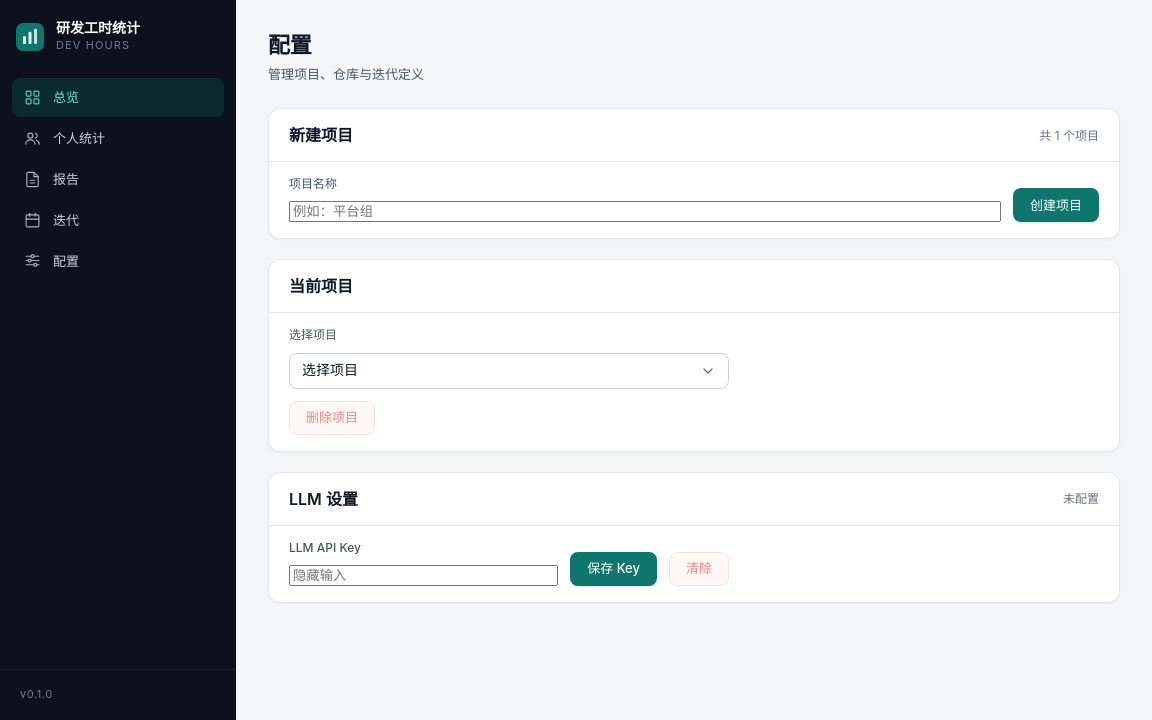
ConfigPage LLM settings › saves the LLM API key via PUT /api/settings/llm
The image size is (1152, 720).
In the password field named "llm-api-key": (424, 575) [289,565,558,586], type "sk-test-123456"
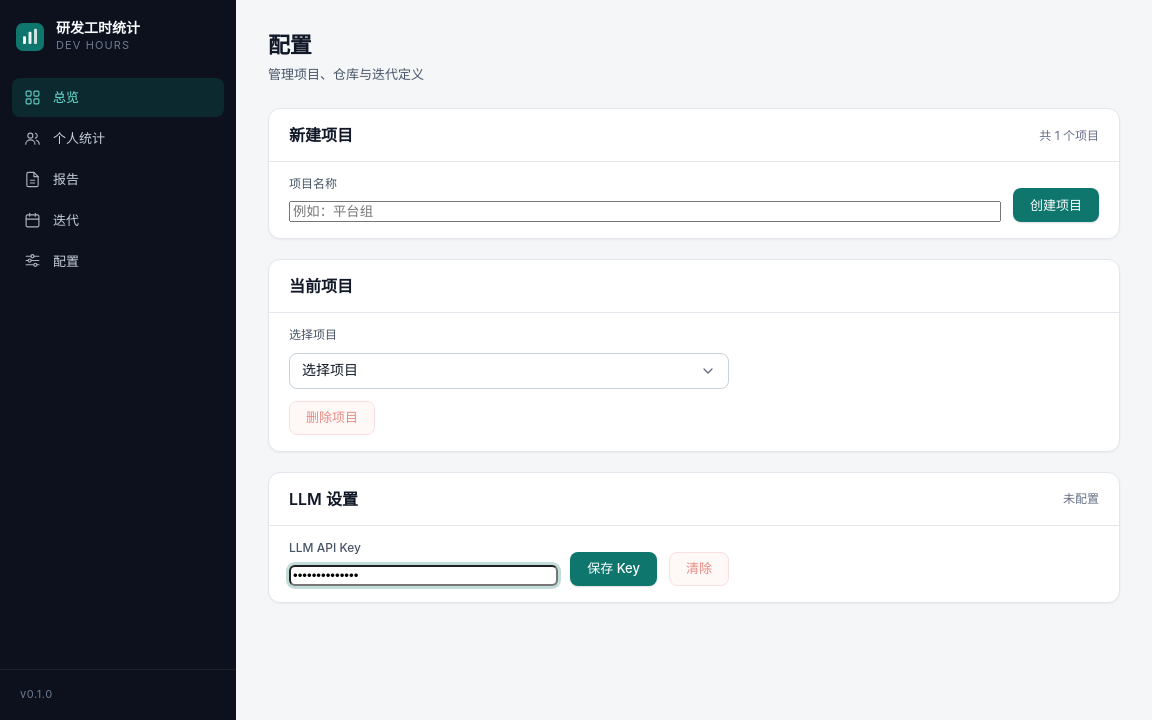
Click the button "保存 Key": (614, 569) [570,552,657,586]
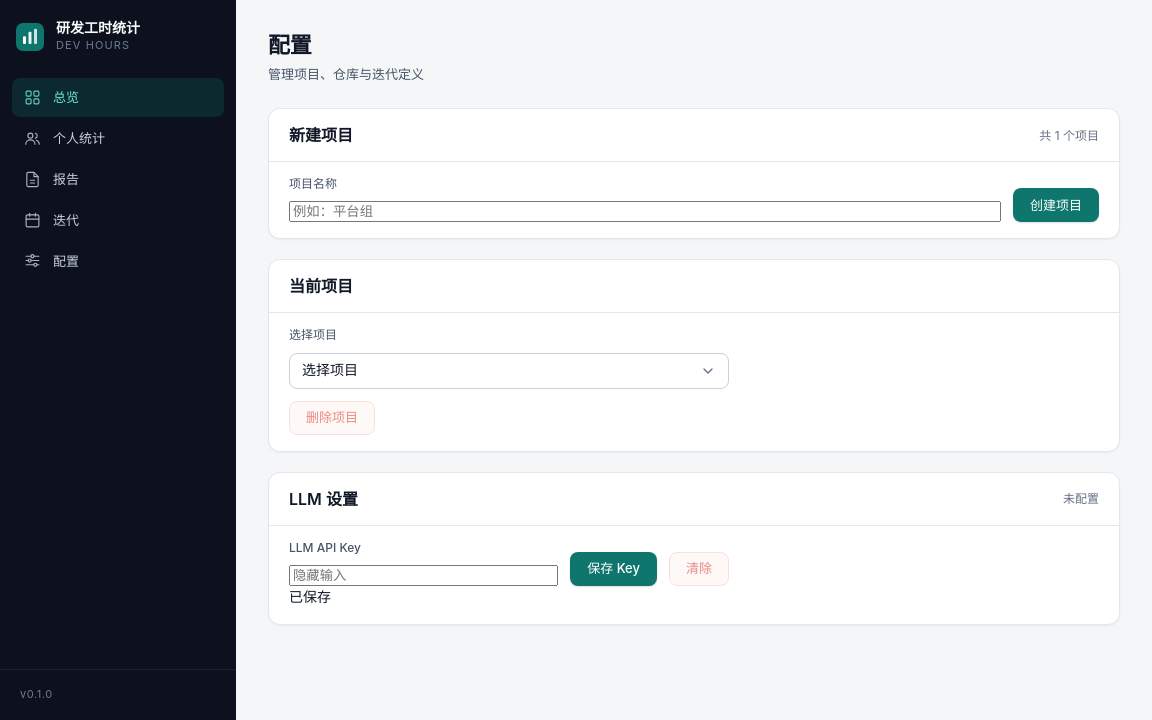
Expected: the text "已保存" is shown, [289,588,331,605]
